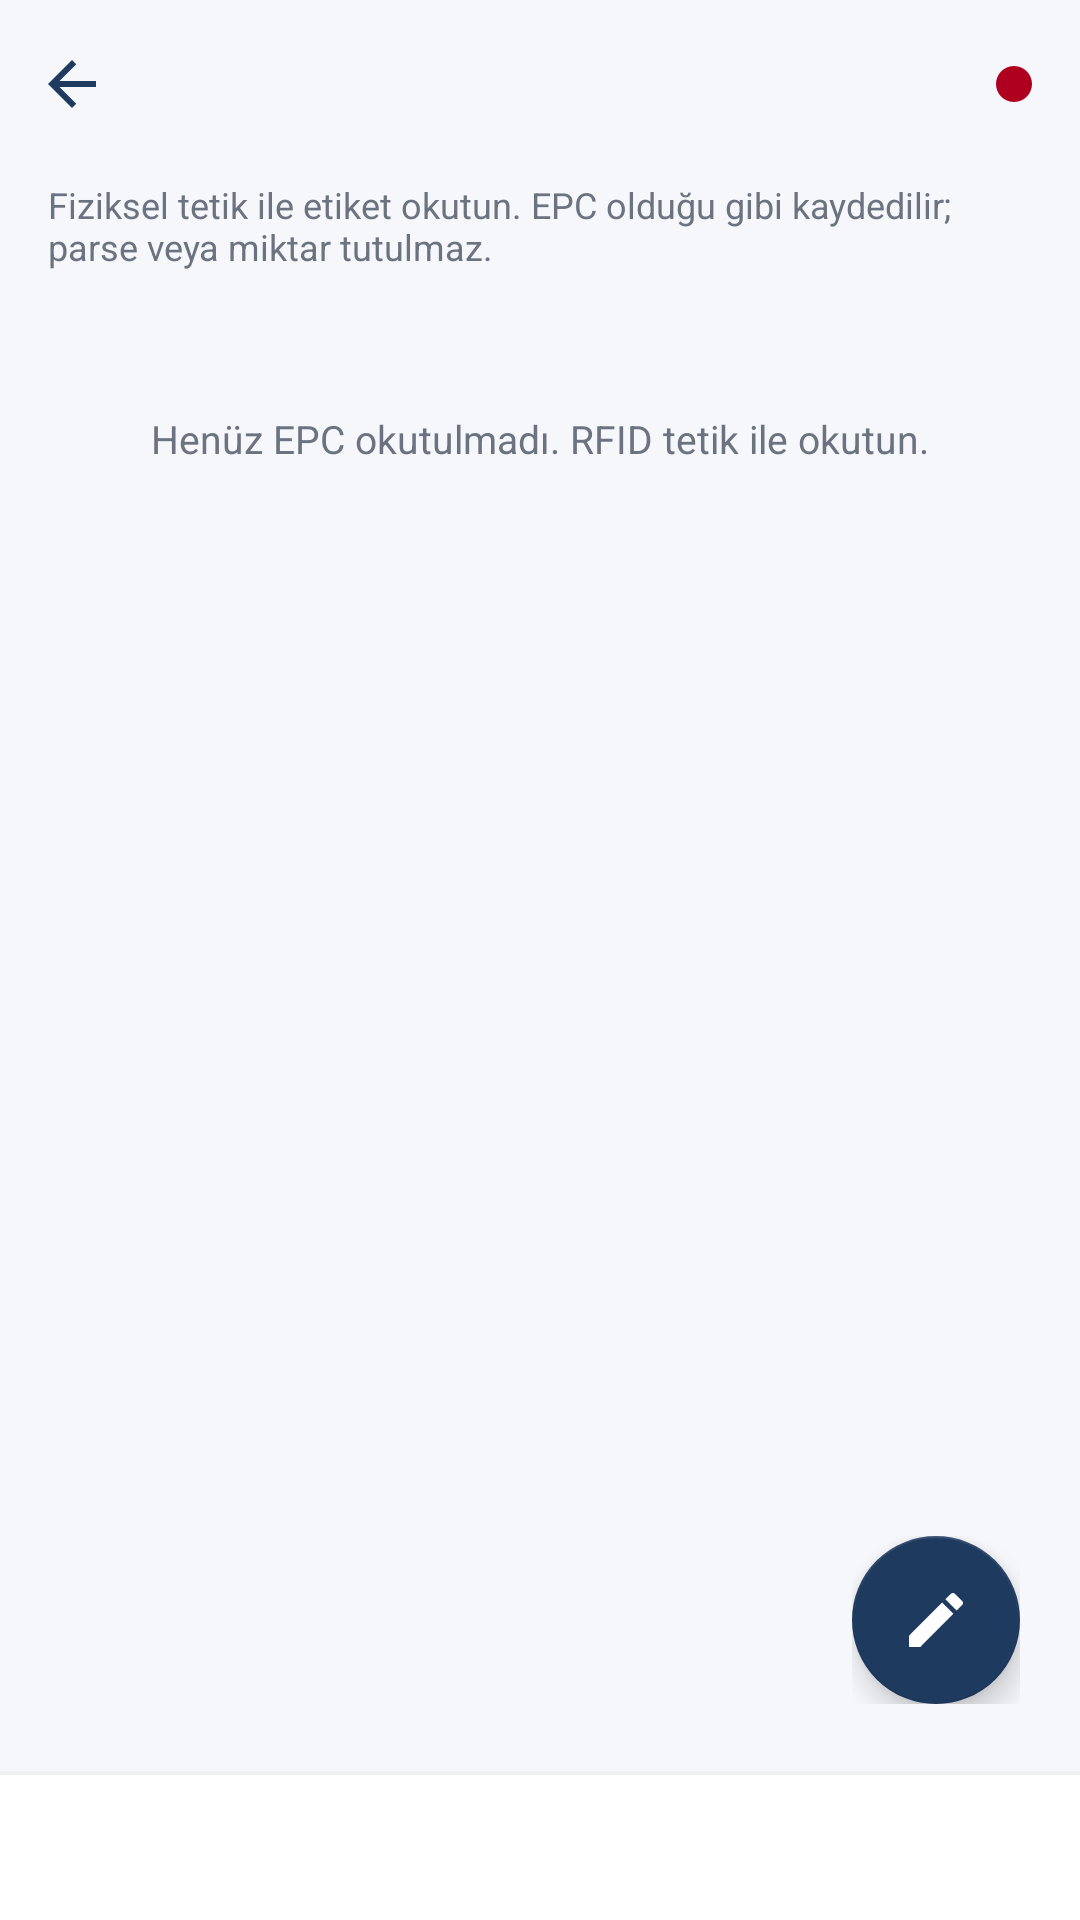

Locate icon controls on the screen. Image size 1080×1920, boxes as (x1, y1, x2, y2).
Geri: (48, 60, 96, 108)
